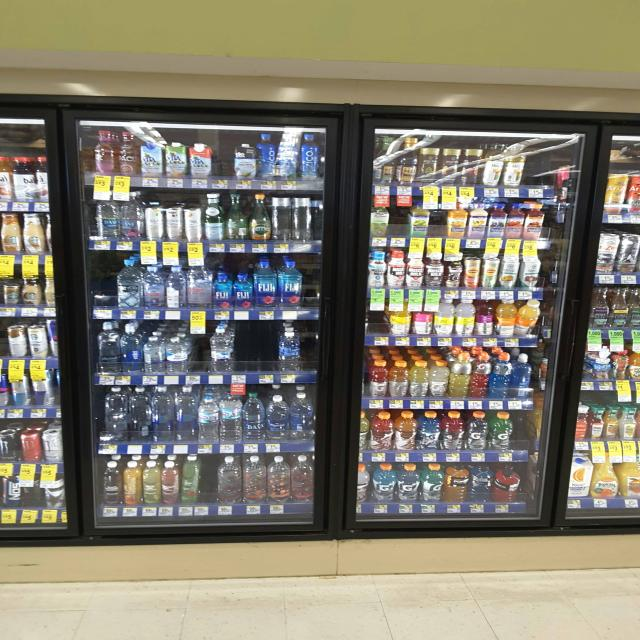empty: (229, 322, 286, 383), (516, 145, 557, 199), (87, 259, 118, 313), (207, 139, 240, 188), (198, 455, 225, 509), (511, 410, 542, 456), (368, 299, 395, 349), (303, 256, 324, 310), (389, 203, 414, 247)
